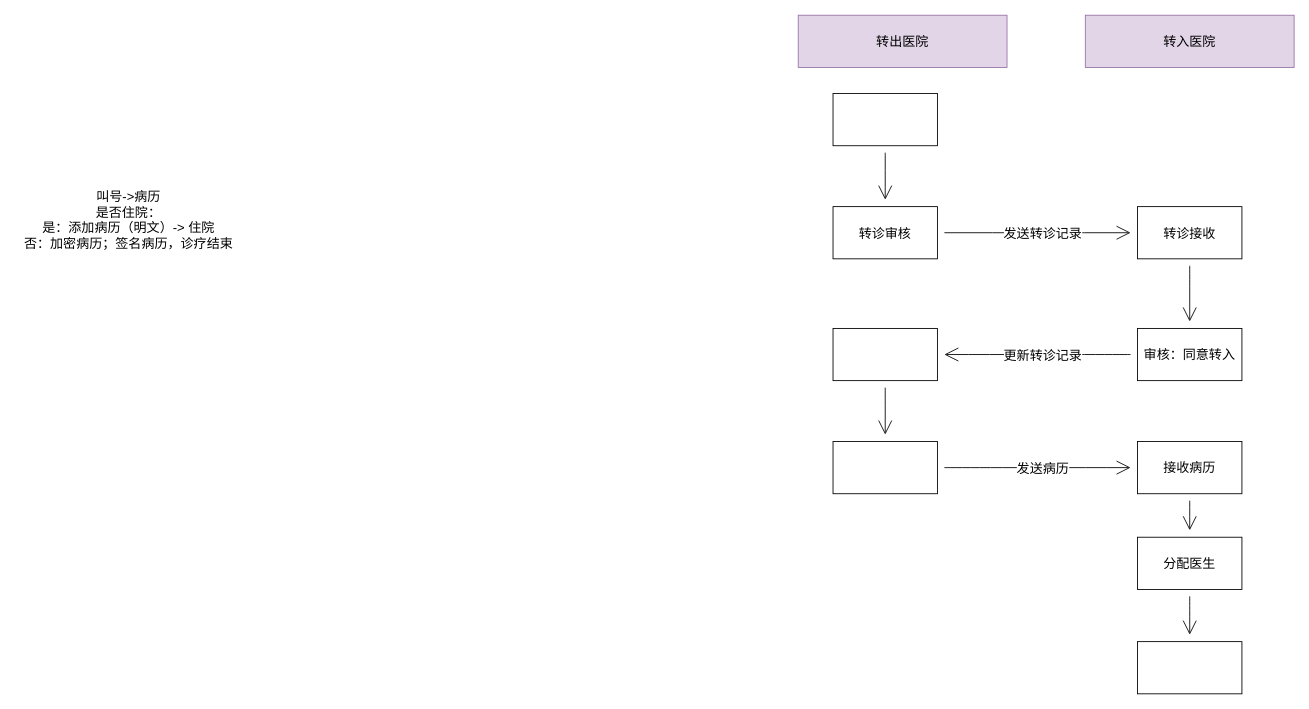
Image size: 1309x709. Some labels were removed from this diagram. The centre of each missing label's shape, as x and y in pixels:
"加密、签名病历" goes at (x=884, y=467).
"同意转入的转诊记录" goes at (x=884, y=354).
"转诊发起" goes at (x=884, y=119).
"转诊执行" goes at (x=1189, y=667).
